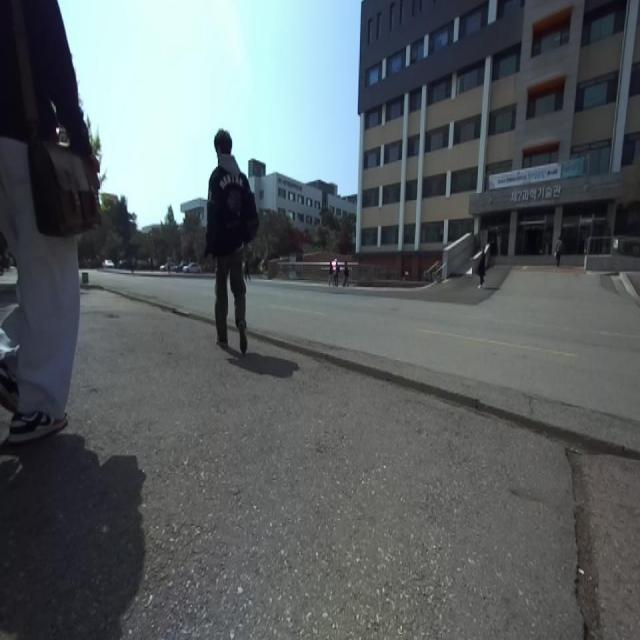sidewalk: (0, 289, 640, 638)
